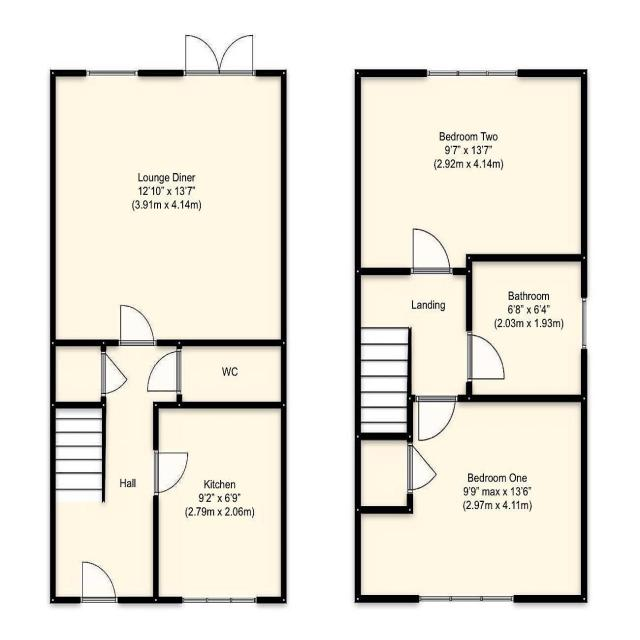DOOR: (410, 228, 454, 275), (466, 330, 505, 383), (415, 395, 458, 442), (146, 347, 182, 396), (153, 449, 189, 496), (80, 561, 119, 604), (119, 303, 156, 346)
DOUBLE DOOR: (183, 34, 254, 76)
ROOM: (49, 34, 287, 347), (354, 394, 588, 603), (354, 69, 588, 275), (153, 401, 287, 604)
WINDOW: (418, 595, 514, 603), (426, 69, 518, 77), (182, 596, 258, 604), (85, 69, 139, 77), (581, 297, 588, 350)
